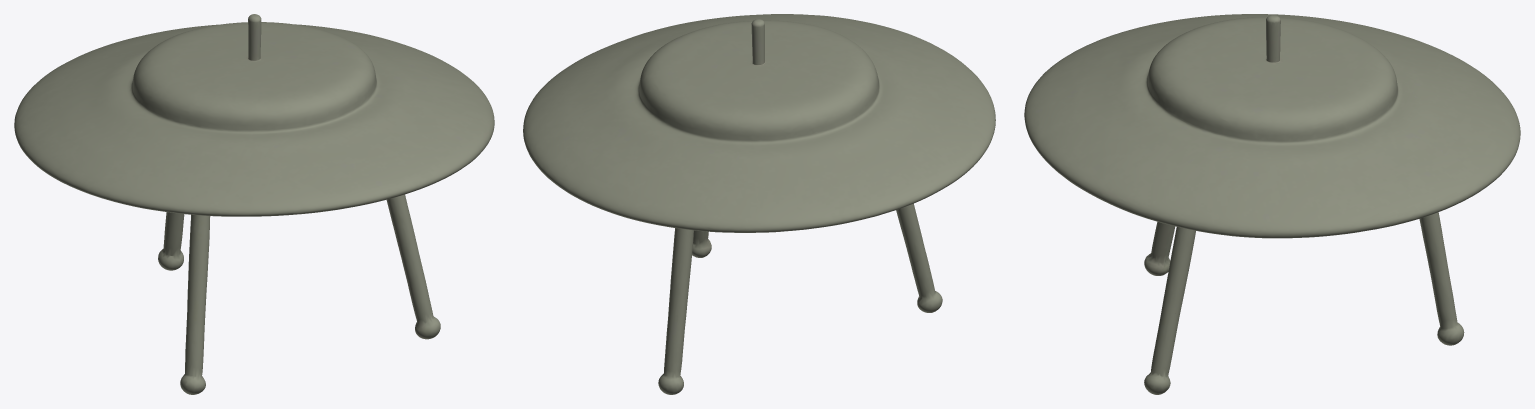
Rendered from paul-villa.glb.
3 renders of one model, left to right at view 1: azimuth 30°, elevation 25°; view 2: azimuth 150°, elevation 25°; view 3: azimuth 270°, elevation 25°, orthographic. The views are drawn at different scales.
Visible parts, largest first — view 1: tripo_node_e3ede36f-4f5a-4611-9637-a6e55055917c; view 2: tripo_node_e3ede36f-4f5a-4611-9637-a6e55055917c; view 3: tripo_node_e3ede36f-4f5a-4611-9637-a6e55055917c.
Part boxes in pixels (x1=…): tripo_node_e3ede36f-4f5a-4611-9637-a6e55055917c: x1=14, y1=14, x2=494, y2=394; tripo_node_e3ede36f-4f5a-4611-9637-a6e55055917c: x1=523, y1=14, x2=995, y2=394; tripo_node_e3ede36f-4f5a-4611-9637-a6e55055917c: x1=1024, y1=14, x2=1520, y2=394.
Size of the model in its own units: 0.9996 by 0.7261 by 1.
1 material, 1 textured.
